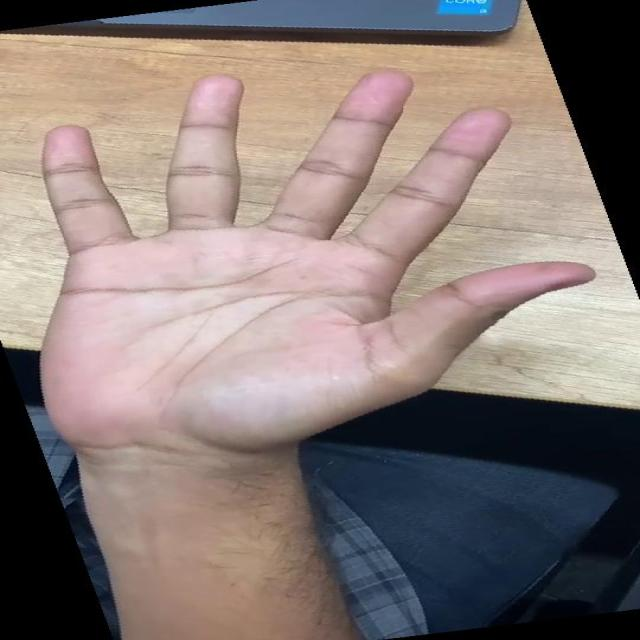no-gloves: (0, 37, 613, 462)
